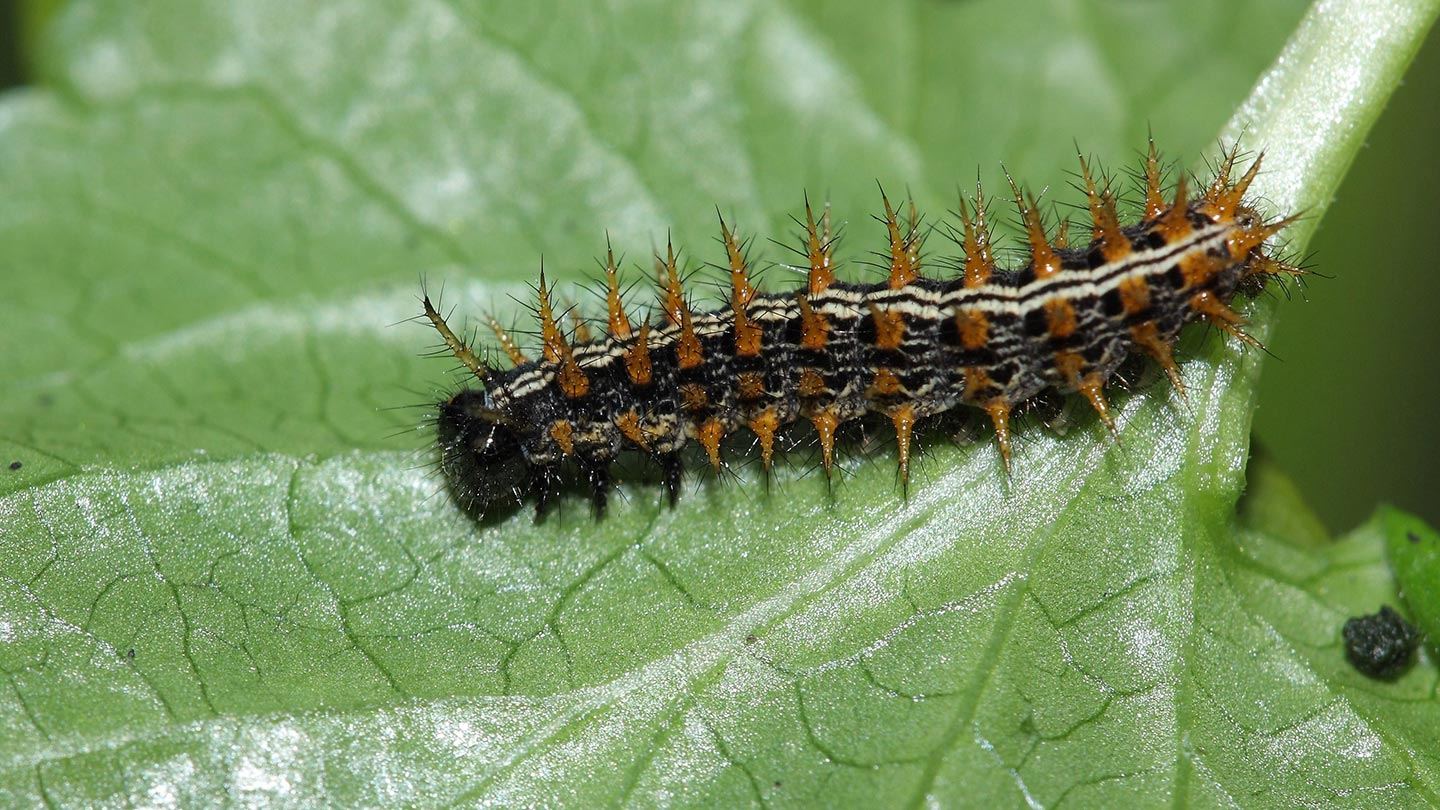Caterpillar: (420, 143, 1283, 528)
